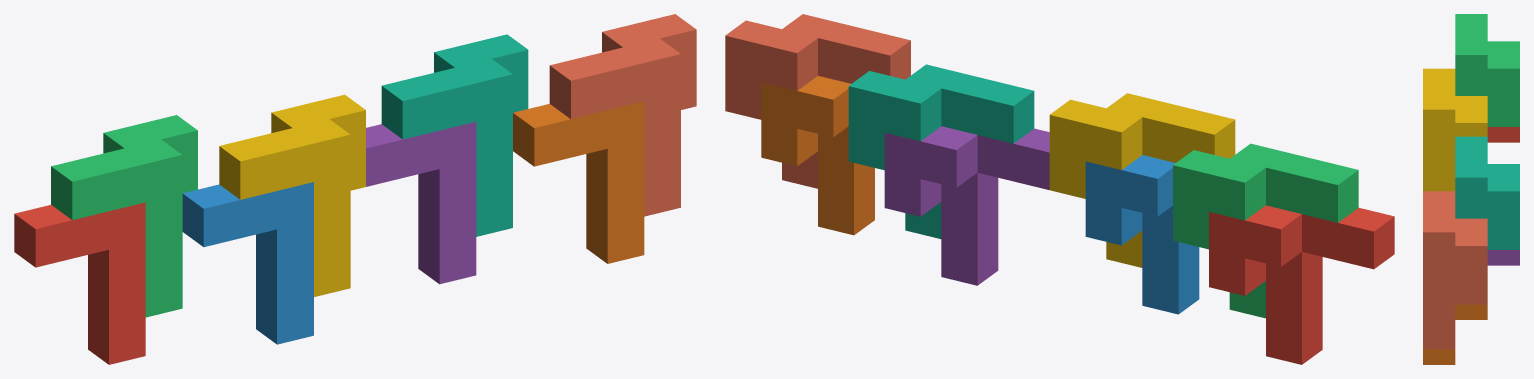
Rendered from tiling.obj.
The picture shows the model from 3 angles, left to right: view 1: azimuth 30°, elevation 25°; view 2: azimuth 150°, elevation 25°; view 3: azimuth 270°, elevation 25°; orthographic projection. The views are drawn at different scales.
Parts seen in each view (by area): view 1: copy_1_domain_8, copy_1_domain_4, copy_1_domain_3, copy_1_domain_7, copy_1_domain_6, copy_1_domain_1, copy_1_domain_2, copy_1_domain_5; view 2: copy_1_domain_1, copy_1_domain_5, copy_1_domain_7, copy_1_domain_3, copy_1_domain_4, copy_1_domain_8, copy_1_domain_2, copy_1_domain_6; view 3: copy_1_domain_8, copy_1_domain_7, copy_1_domain_3, copy_1_domain_4, copy_1_domain_6, copy_1_domain_1, copy_1_domain_5.
Boxes of the visible parts, x1,y1,x2,y2 form: copy_1_domain_8: (549,14,696,216); copy_1_domain_4: (219,94,365,296); copy_1_domain_3: (51,115,197,317); copy_1_domain_7: (381,34,528,236); copy_1_domain_6: (513,101,644,263); copy_1_domain_1: (14,202,145,364); copy_1_domain_2: (182,182,313,344); copy_1_domain_5: (366,122,476,284); copy_1_domain_1: (1209,205,1394,364); copy_1_domain_5: (884,126,1049,285); copy_1_domain_7: (848,64,1034,238); copy_1_domain_3: (1173,143,1358,318); copy_1_domain_4: (1049,93,1235,267); copy_1_domain_8: (725,14,910,188); copy_1_domain_2: (1085,155,1199,314); copy_1_domain_6: (761,76,874,235); copy_1_domain_8: (1423,191,1487,349); copy_1_domain_7: (1455,136,1519,249); copy_1_domain_3: (1455,14,1519,126); copy_1_domain_4: (1423,68,1487,191); copy_1_domain_6: (1423,304,1487,364); copy_1_domain_1: (1487,127,1519,142); copy_1_domain_5: (1487,250,1519,265).
Bounding box in the file's own units: 18 × 5 × 3.
